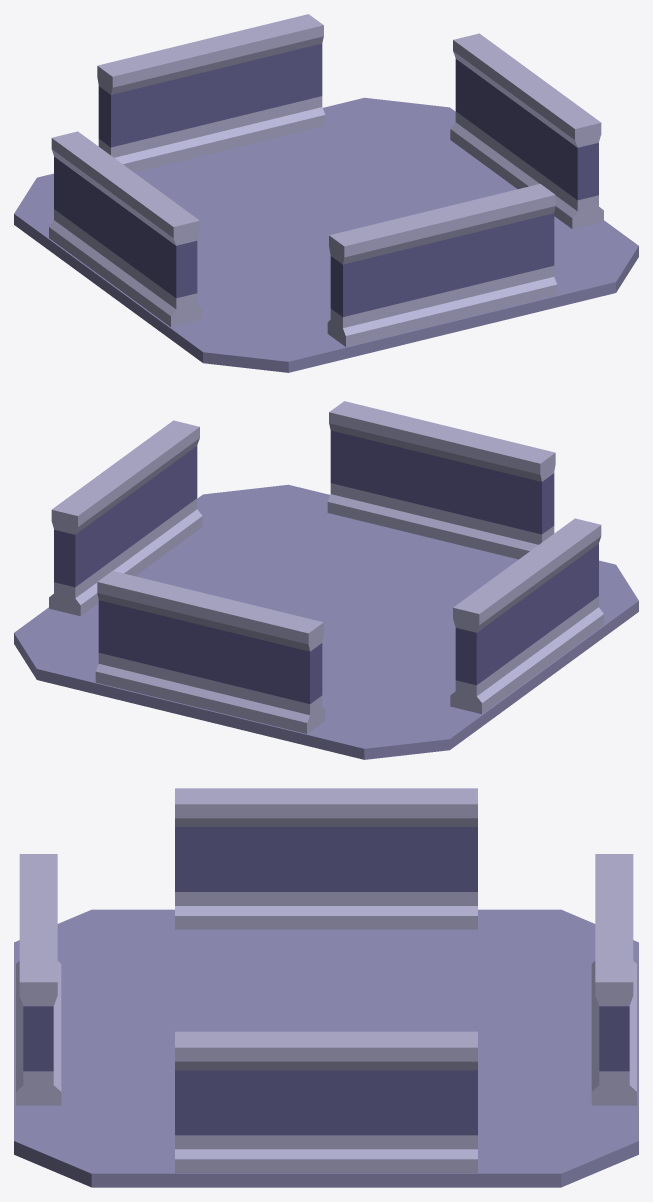
File: hub4.fbx
The picture shows the model from 3 angles, top to bottom: view 1: azimuth 30°, elevation 25°; view 2: azimuth 150°, elevation 25°; view 3: azimuth 270°, elevation 25°; orthographic projection. The views are drawn at different scales.
Parts seen in each view (by area): view 1: mergedBlocks; view 2: mergedBlocks; view 3: mergedBlocks.
Boxes of the visible parts, x1,y1,x2,y2 form: mergedBlocks: (14, 14, 638, 372); mergedBlocks: (14, 401, 638, 759); mergedBlocks: (14, 788, 638, 1187).
Bounding box in the file's own units: 41.25 × 10 × 41.25.
